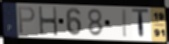6: (65, 7, 83, 37)
8: (87, 8, 104, 38)
H: (37, 6, 60, 37)
I: (123, 9, 129, 39)
P: (17, 6, 37, 35)
T: (131, 8, 150, 41)
